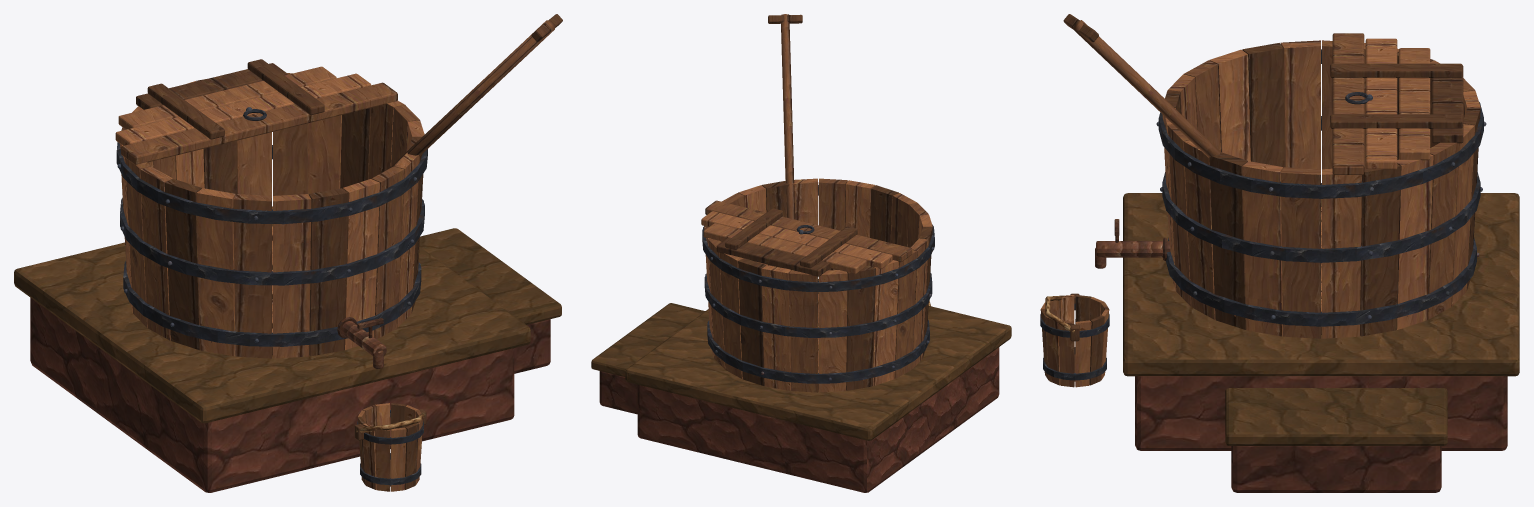
Rendered from rb_mash_tun.glb.
The picture shows the model from 3 angles, left to right: view 1: azimuth 30°, elevation 25°; view 2: azimuth 150°, elevation 25°; view 3: azimuth 270°, elevation 25°; orthographic projection. The views are drawn at different scales.
Parts seen in each view (by area): view 1: model; view 2: model; view 3: model.
Part boxes in pixels (<box>): model: <box>14,14,562,492</box>; model: <box>591,14,1011,492</box>; model: <box>1040,14,1519,492</box>.
Bounding box in the file's own units: 1.64 × 1.6 × 1.6.
Materials: 14 (13 with a texture image).
